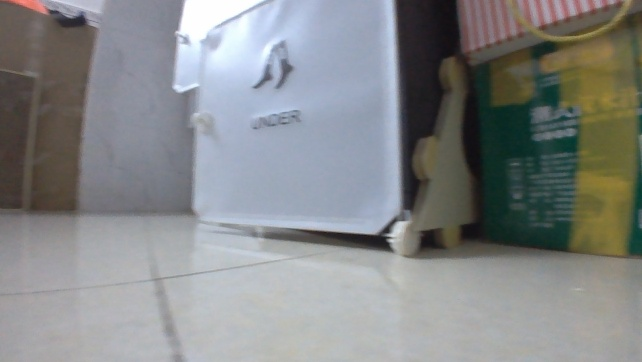wire: (501, 0, 635, 45)
